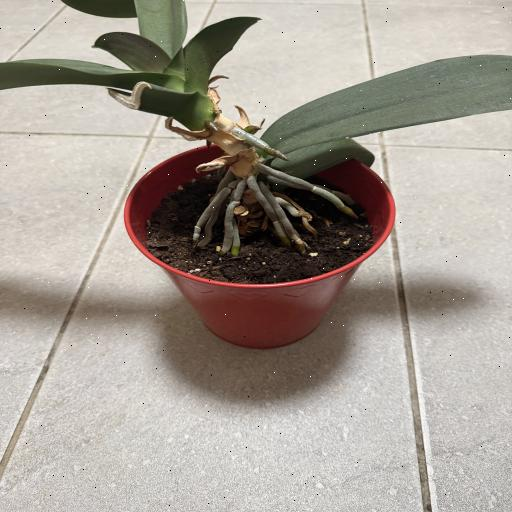Plant Pot: (122, 140, 398, 350)
